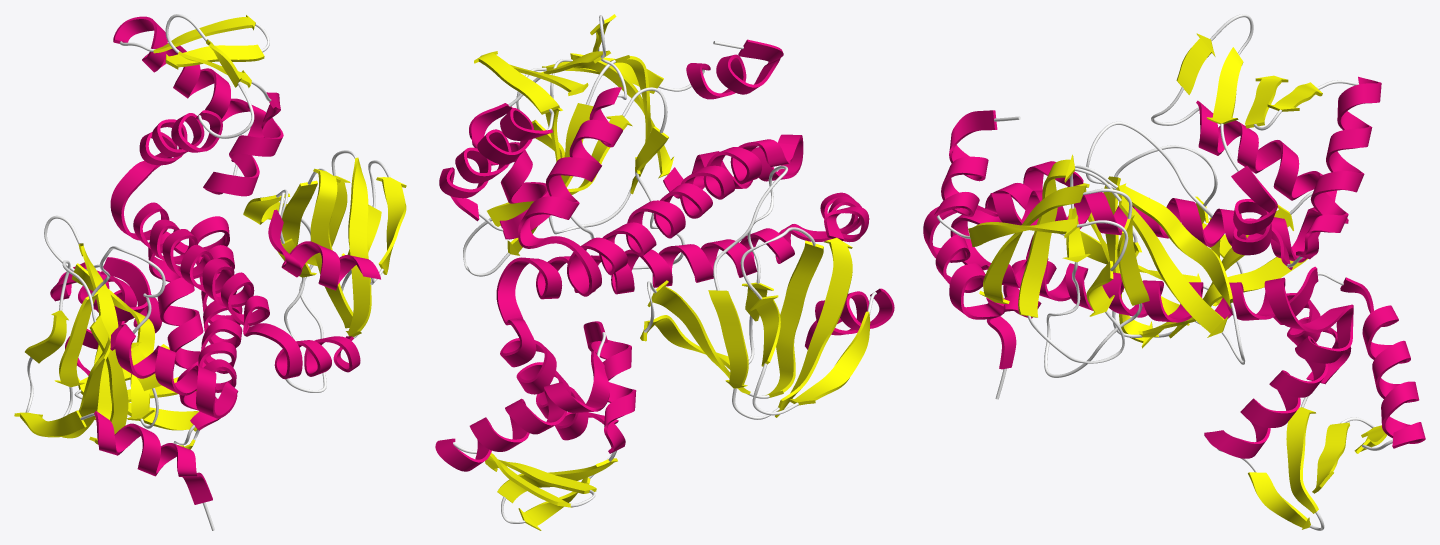
File: cap-camp.fbx
3 renders of one model, left to right at view 1: azimuth 30°, elevation 25°; view 2: azimuth 150°, elevation 25°; view 3: azimuth 270°, elevation 25°, orthographic. The views are drawn at different scales.
Parts seen in each view (by area): view 1: 1g6n_A_Helix3, 1g6n_B_Helix3, 1g6n_A_Helix6, 1g6n_B_Helix4, 1g6n_B_Helix2, 1g6n_B_Helix1, 1g6n_A_Helix5, 1g6n_A_Helix2, 1g6n_A_Helix4, 1g6n_A_Strand2, 1g6n_A_Helix1, 1g6n_A_Strand3 (+20 smaller); view 2: 1g6n_A_Helix3, 1g6n_B_Helix3, 1g6n_B_Helix6, 1g6n_A_Helix4, 1g6n_A_Helix6, 1g6n_B_Helix4, 1g6n_B_Strand3, 1g6n_B_Strand2, 1g6n_A_Helix5, 1g6n_B_Helix5, 1g6n_A_Helix1, 1g6n_B_Strand6 (+20 smaller); view 3: 1g6n_A_Helix3, 1g6n_B_Helix3, 1g6n_B_Helix4, 1g6n_A_Helix6, 1g6n_B_Helix6, 1g6n_A_Helix4, 1g6n_A_Helix2, 1g6n_A_Helix5, 1g6n_A_Helix1, 1g6n_A_Strand7, 1g6n_A_Strand8, 1g6n_A_Strand3 (+21 smaller).
Part boxes in pixels (x1,y1,x2,y2): 1g6n_A_Helix3: (110, 167, 269, 336); 1g6n_B_Helix3: (190, 216, 242, 408); 1g6n_A_Helix6: (113, 16, 265, 161); 1g6n_B_Helix4: (148, 231, 220, 430); 1g6n_B_Helix2: (110, 323, 231, 418); 1g6n_B_Helix1: (94, 411, 212, 504); 1g6n_A_Helix5: (203, 92, 283, 196); 1g6n_A_Helix2: (257, 323, 360, 379); 1g6n_A_Helix4: (133, 110, 222, 178); 1g6n_A_Strand2: (346, 157, 371, 337); 1g6n_A_Helix1: (268, 209, 380, 290); 1g6n_A_Strand3: (310, 168, 353, 328); 1g6n_A_Helix3: (561, 139, 796, 296); 1g6n_B_Helix3: (496, 224, 812, 322); 1g6n_B_Helix6: (435, 351, 609, 471); 1g6n_A_Helix4: (518, 87, 622, 248); 1g6n_A_Helix6: (439, 108, 552, 221); 1g6n_B_Helix4: (500, 317, 618, 440); 1g6n_B_Strand3: (765, 240, 823, 397); 1g6n_B_Strand2: (775, 237, 852, 417); 1g6n_A_Helix5: (469, 103, 550, 239); 1g6n_B_Helix5: (583, 321, 636, 453); 1g6n_A_Helix1: (686, 39, 783, 99); 1g6n_B_Strand6: (708, 290, 748, 388); 1g6n_A_Helix3: (976, 190, 1320, 262); 1g6n_B_Helix3: (980, 255, 1324, 332); 1g6n_B_Helix4: (1204, 304, 1353, 458); 1g6n_A_Helix6: (1296, 76, 1381, 259); 1g6n_B_Helix6: (1340, 277, 1425, 448); 1g6n_A_Helix4: (1196, 100, 1348, 223); 1g6n_A_Helix2: (923, 206, 1005, 319); 1g6n_A_Helix5: (1231, 166, 1292, 269); 1g6n_A_Helix1: (933, 110, 997, 218); 1g6n_A_Strand7: (1118, 195, 1228, 337); 1g6n_A_Strand8: (1116, 183, 1233, 308); 1g6n_A_Strand3: (1018, 154, 1075, 317).
Bounding box in the file's own units: 47.82 × 66.08 × 60.07.
